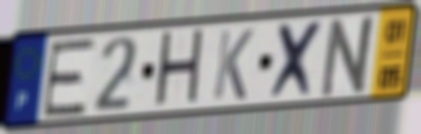2: (91, 34, 140, 115)
E: (39, 35, 99, 120)
H: (151, 25, 207, 113)
K: (210, 27, 257, 102)
N: (317, 12, 381, 101)
X: (267, 17, 328, 103)
